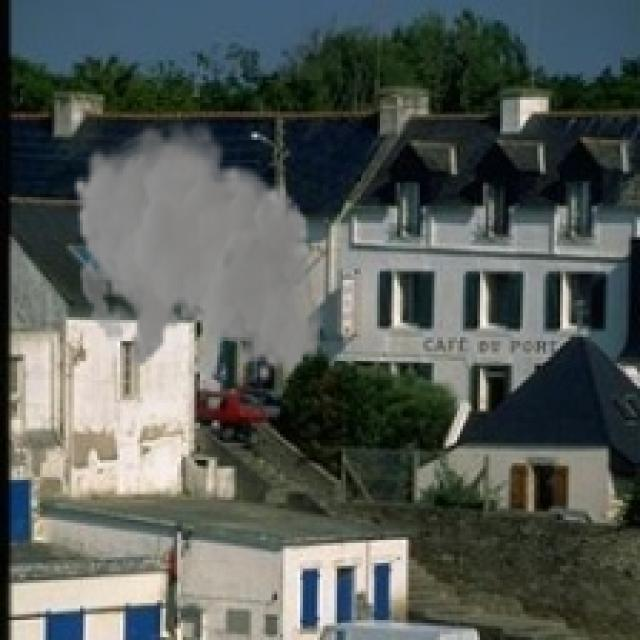Smoke: (71, 111, 323, 383)
